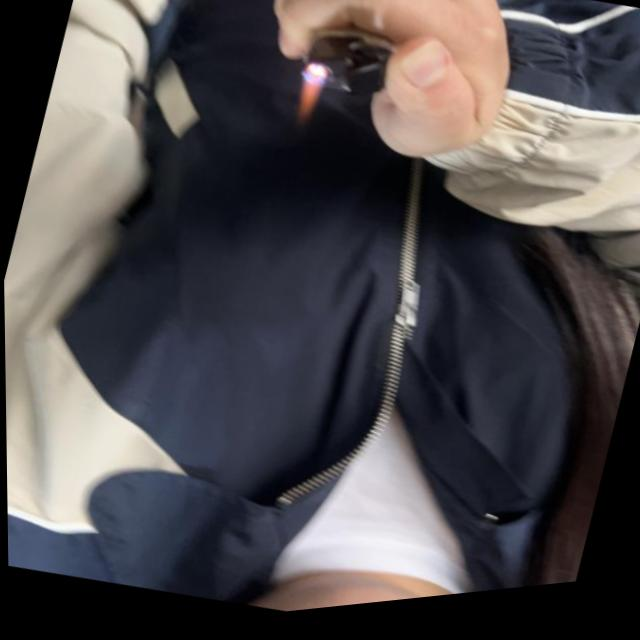Fire: (289, 66, 331, 133)
